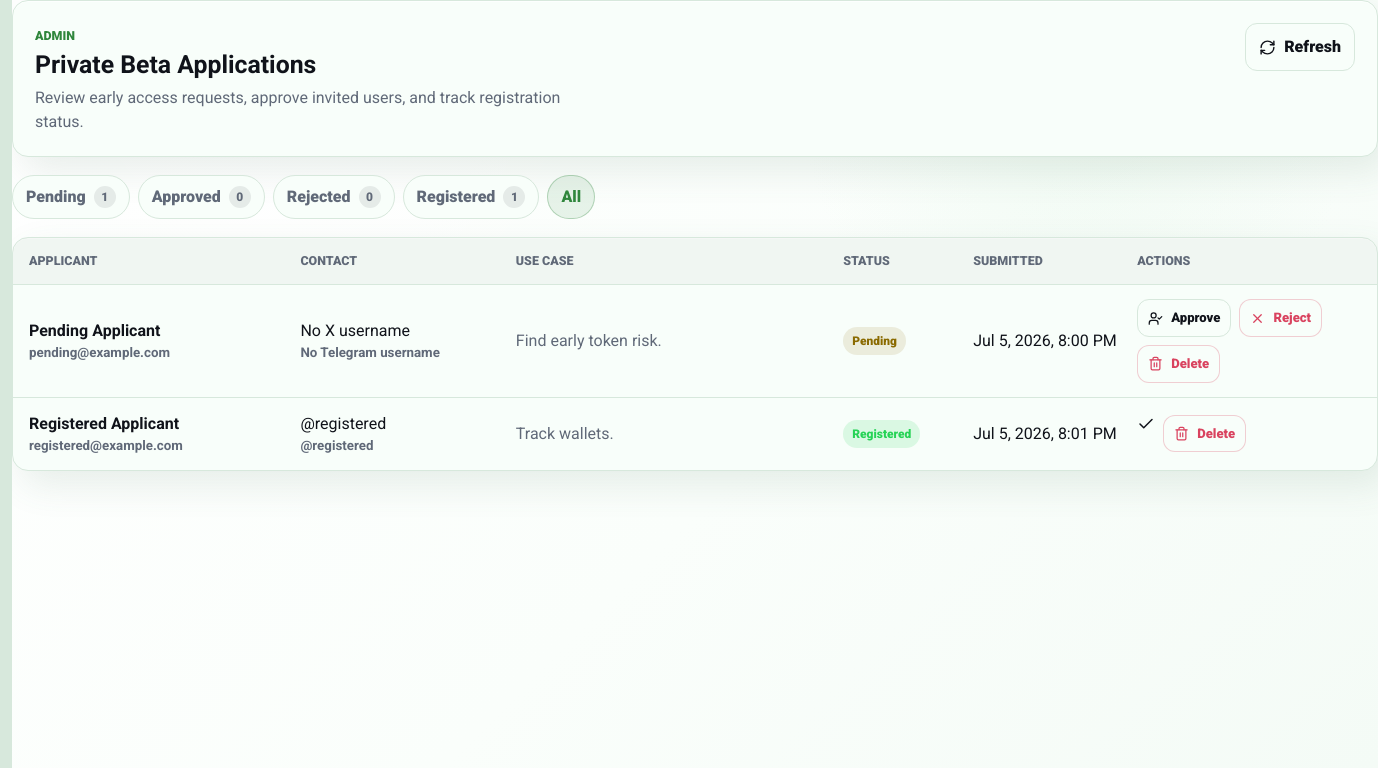
Test: BetaApplicationsAdminPage › loads all applications for accurate counts and filters client-side
Expected: the text "Pending Applicant" is shown, [29,321,160,340]
Expected: the text "Registered Applicant" is shown, [29,414,179,433]
Click the button "Pending 1" at (71, 196), box [12,174,130,218]
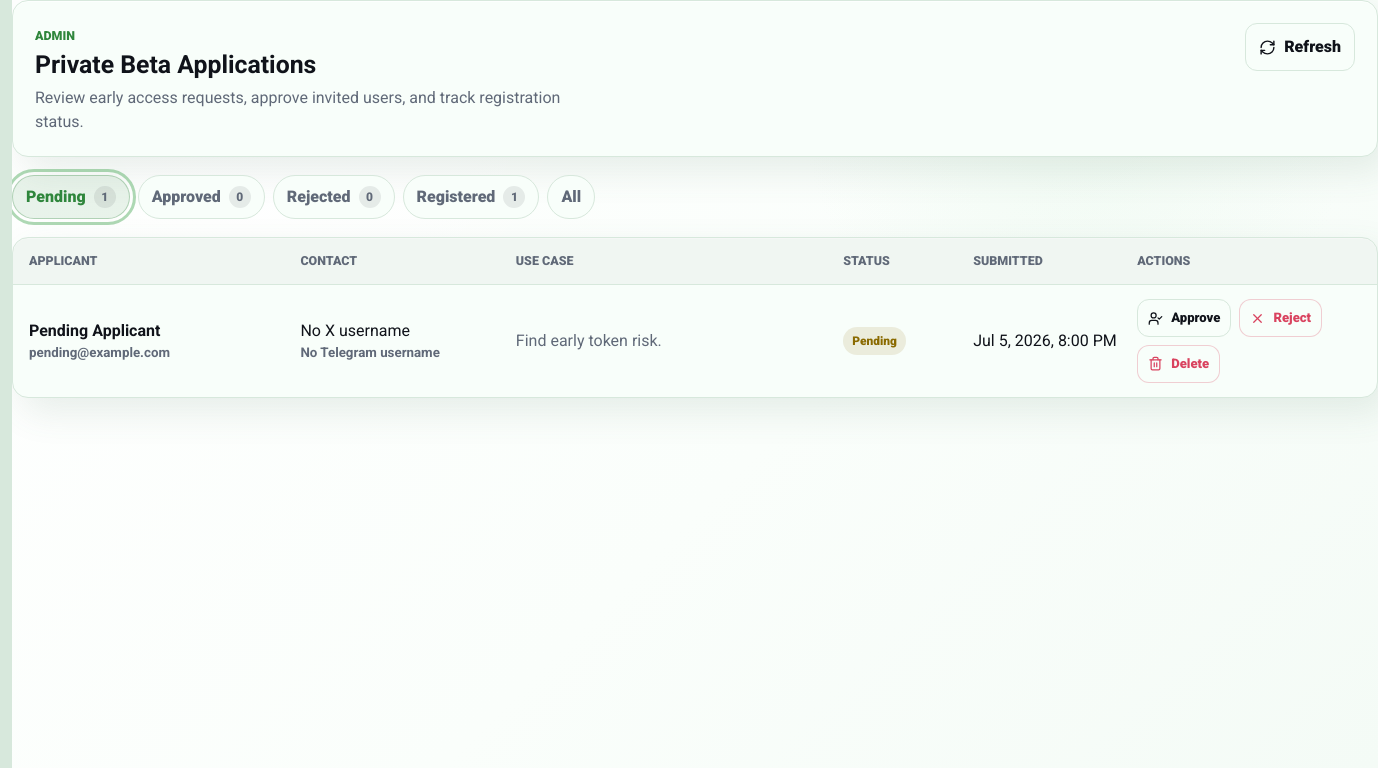
Expected: the text "Pending Applicant" is shown, [29,321,160,340]
Result: the text "Registered Applicant" is gone
